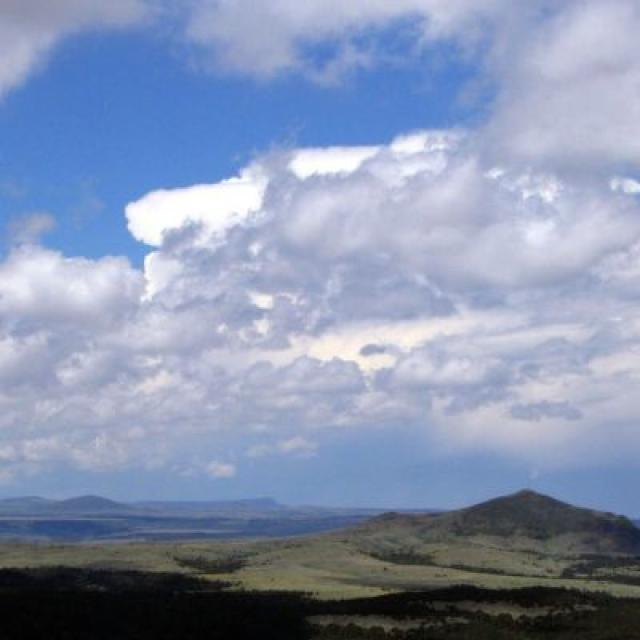Ci: (1, 47, 640, 453)
